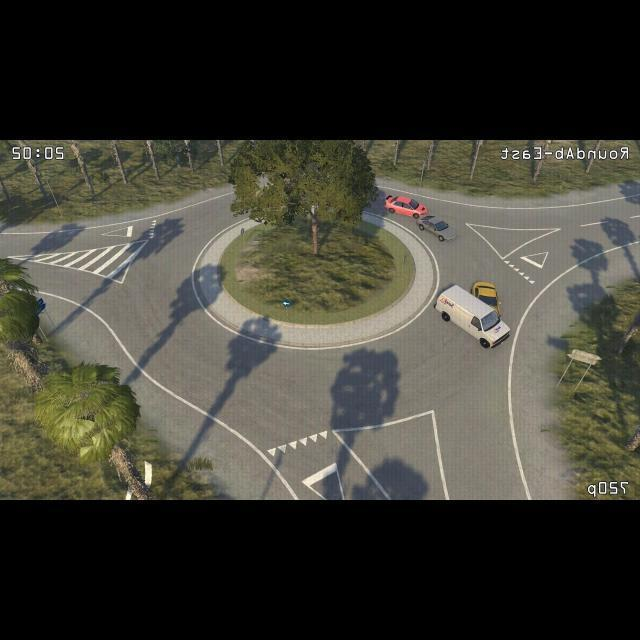accident: (426, 266, 532, 362)
